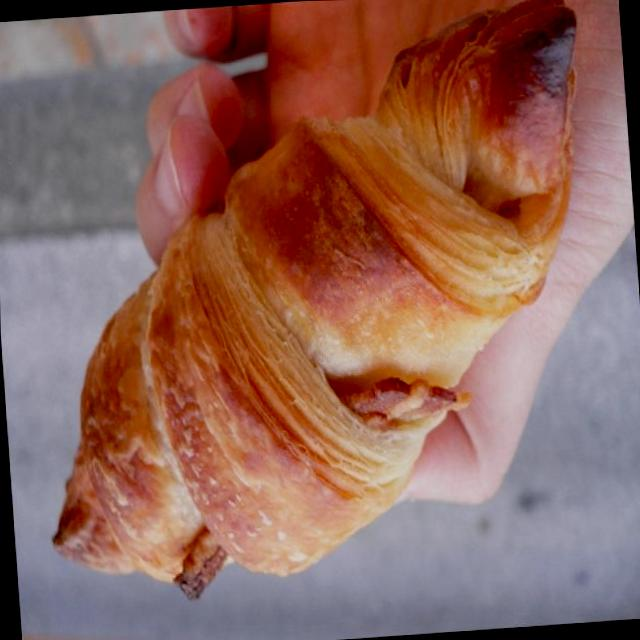Croissant: (55, 32, 594, 600)
